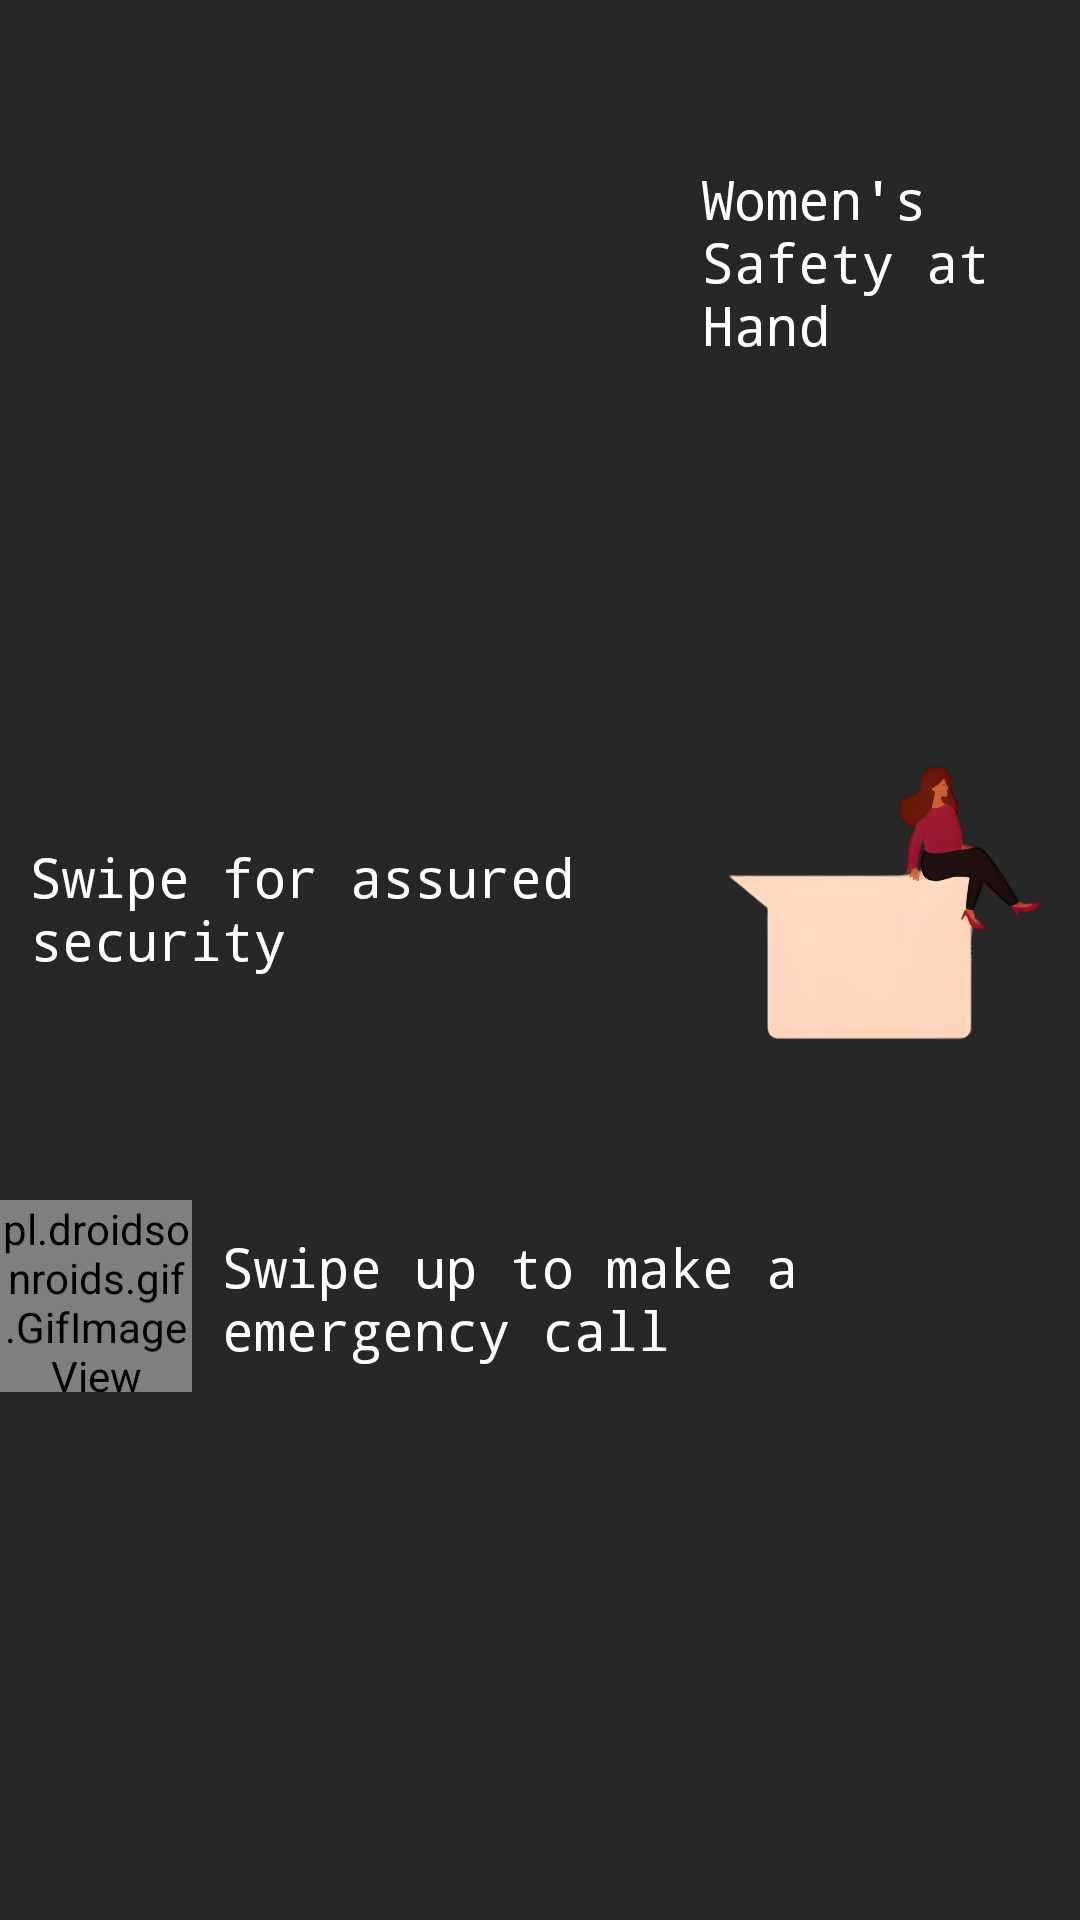

Where to tap for icons on this 1080px x 1920px app screen, as (x=x, y=y):
women: (x=884, y=903)
